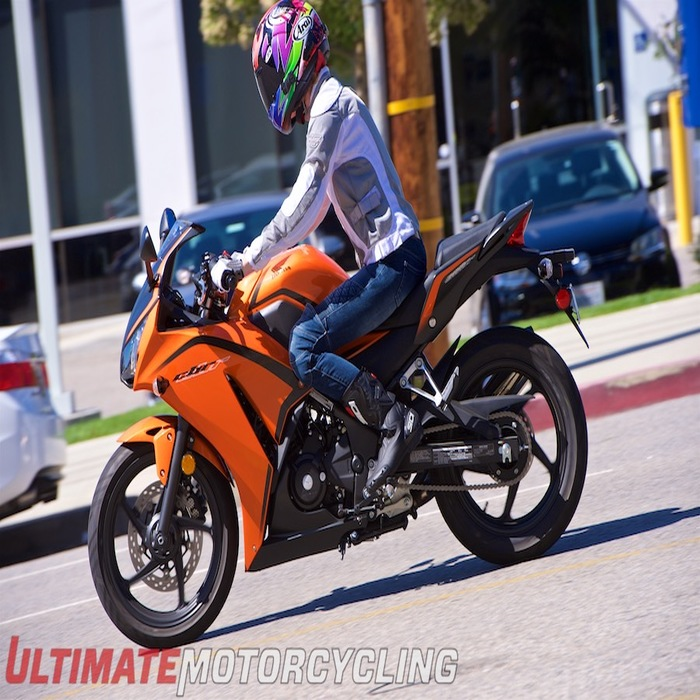h: (246, 1, 334, 139)
